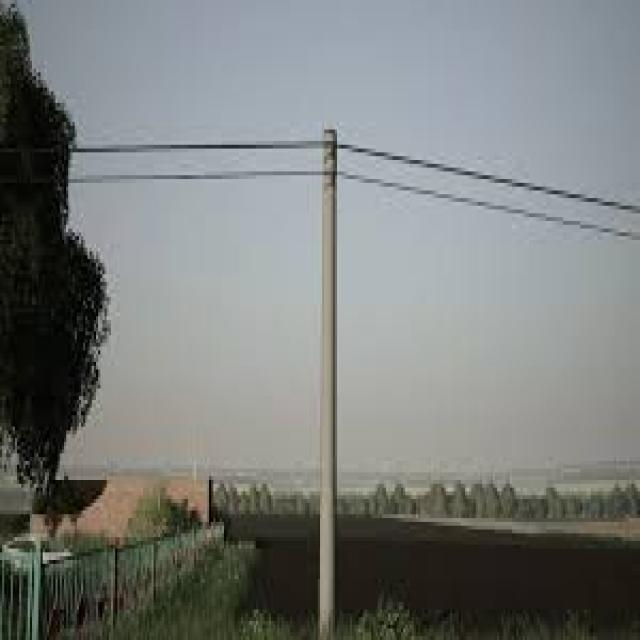light_pole: (312, 126, 362, 640)
